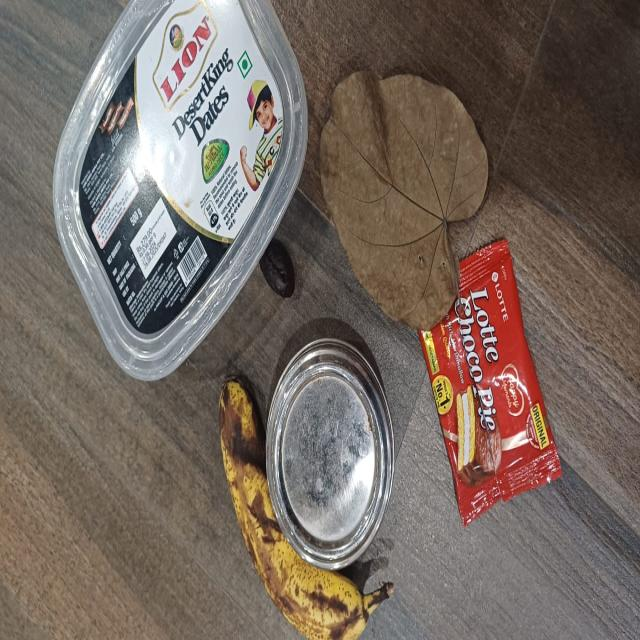Banana-Bio: (212, 372, 393, 640)
Date-Bio: (262, 234, 295, 308)
Leaf-Bio: (315, 62, 492, 332)
Plastic-NonBio: (50, 0, 311, 386), (418, 231, 564, 532)
Steel-NonBio: (264, 318, 394, 572)
